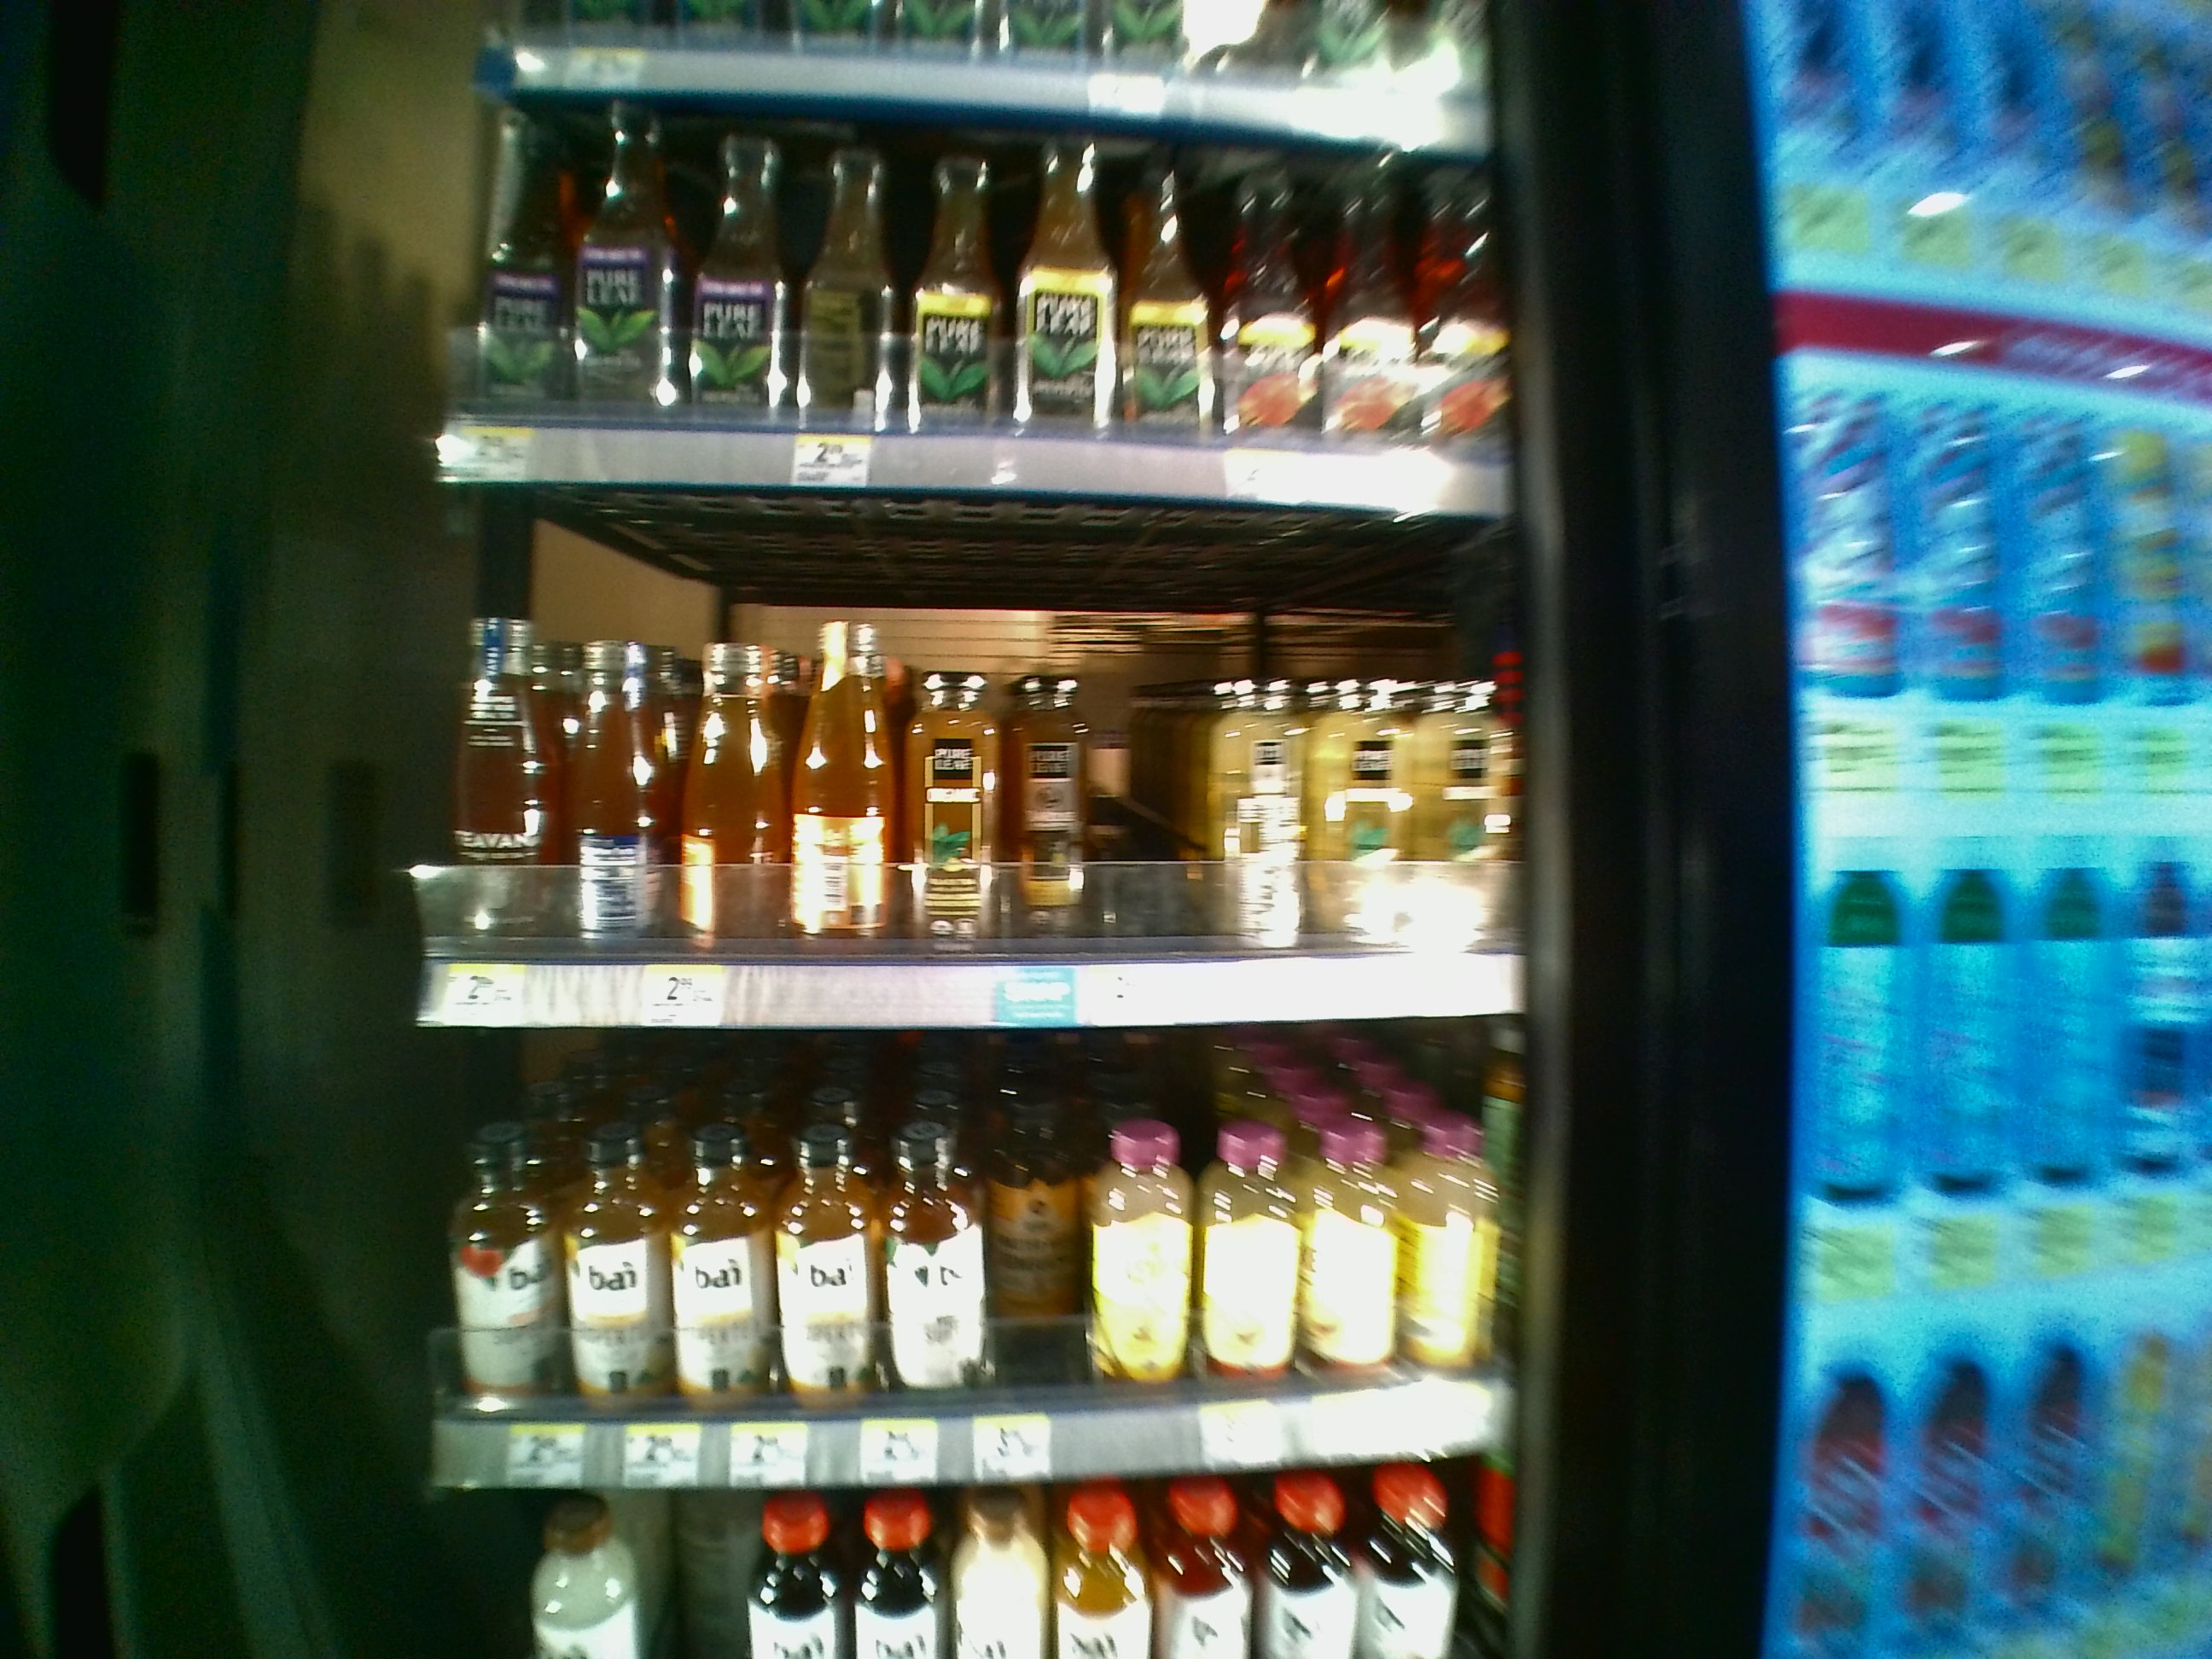shelf: (416, 502, 1531, 1012), (420, 1033, 1526, 1490), (439, 96, 1510, 486)
